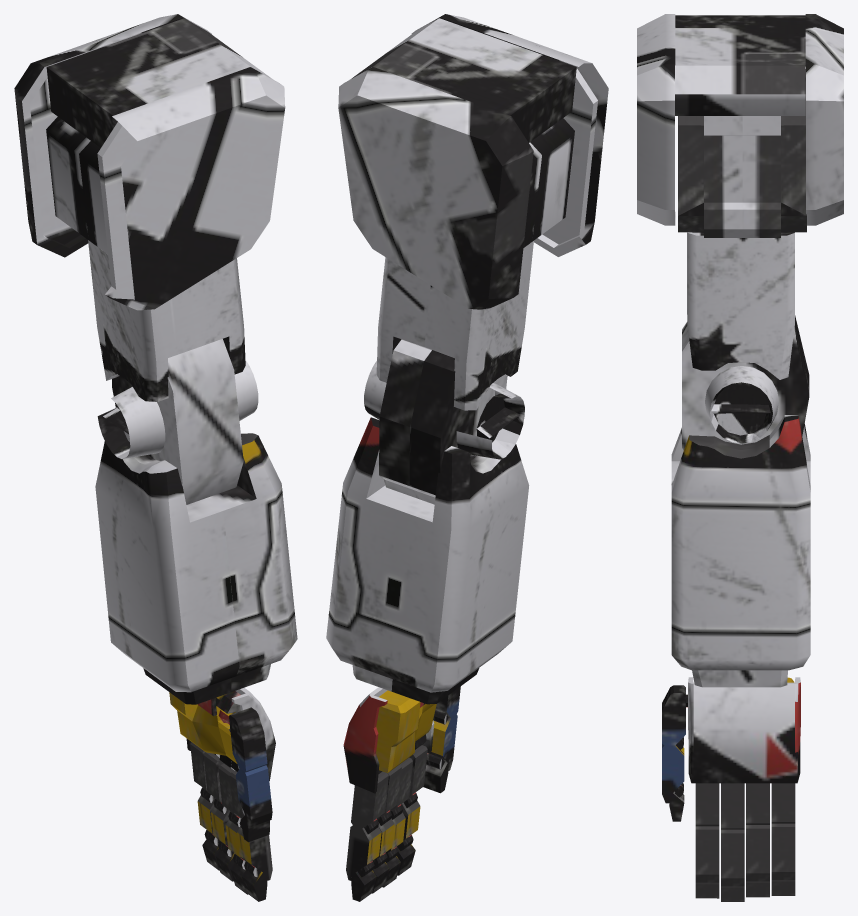
The model's file is handb.obj.
3 renders of one model, left to right at view 1: azimuth 30°, elevation 25°; view 2: azimuth 150°, elevation 25°; view 3: azimuth 270°, elevation 25°, orthographic. The views are drawn at different scales.
Visible parts, largest first — view 1: polySurface666; view 2: polySurface666; view 3: polySurface666.
Boxes of the visible parts, bbox=[...] form: polySurface666: bbox=[14, 14, 297, 901]; polySurface666: bbox=[326, 14, 608, 901]; polySurface666: bbox=[637, 14, 843, 901].
Bounding box in the file's own units: 3.15 × 12.02 × 2.73.
1 material, 1 textured.
